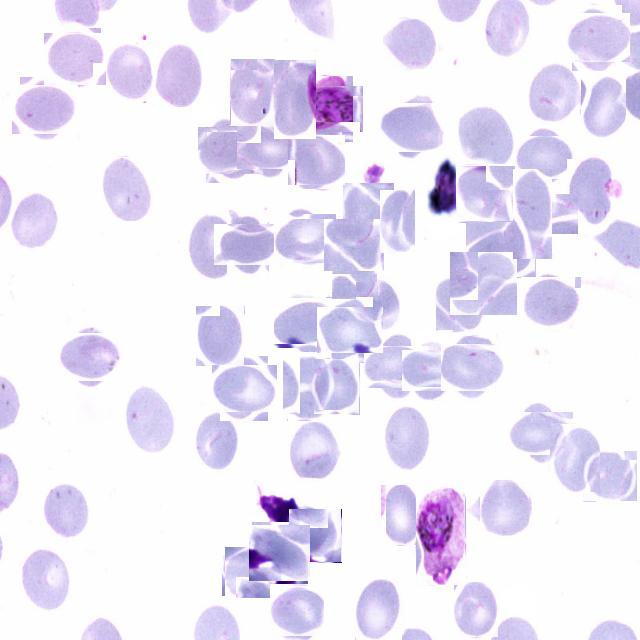difficult: (416, 488, 466, 586)
red blood cell: (450, 250, 516, 316), (500, 181, 566, 246), (466, 222, 536, 278), (187, 211, 238, 284), (125, 384, 177, 454), (454, 108, 515, 166), (250, 524, 310, 582), (283, 352, 332, 422), (343, 183, 394, 250), (550, 424, 600, 492), (62, 328, 120, 386), (16, 81, 74, 139), (384, 98, 442, 156), (568, 9, 626, 67), (526, 66, 583, 125), (274, 60, 316, 139), (46, 31, 104, 88), (456, 165, 514, 222), (289, 420, 342, 482), (567, 159, 616, 226), (18, 549, 70, 611), (102, 157, 152, 221), (321, 302, 378, 358), (155, 40, 203, 106), (581, 74, 626, 144), (523, 274, 579, 330), (202, 122, 258, 178), (220, 216, 276, 272), (277, 295, 333, 351), (277, 211, 333, 267), (242, 120, 298, 176), (444, 340, 500, 396), (230, 59, 276, 127), (383, 407, 431, 472), (324, 219, 384, 271), (105, 40, 154, 103), (512, 406, 568, 461), (216, 361, 272, 416), (41, 482, 92, 541), (355, 576, 402, 640), (196, 306, 245, 367), (370, 339, 424, 394), (10, 192, 59, 252), (288, 508, 342, 562), (478, 482, 532, 536), (290, 134, 344, 188), (383, 19, 440, 70), (583, 451, 638, 502), (519, 132, 571, 184), (195, 410, 238, 472), (436, 277, 484, 332), (406, 344, 456, 396), (314, 359, 360, 415), (271, 588, 322, 638), (454, 582, 499, 638), (381, 485, 422, 546), (332, 246, 378, 300), (224, 548, 272, 596), (380, 190, 416, 253), (356, 282, 400, 330)
trophozoite: (302, 80, 358, 138)
